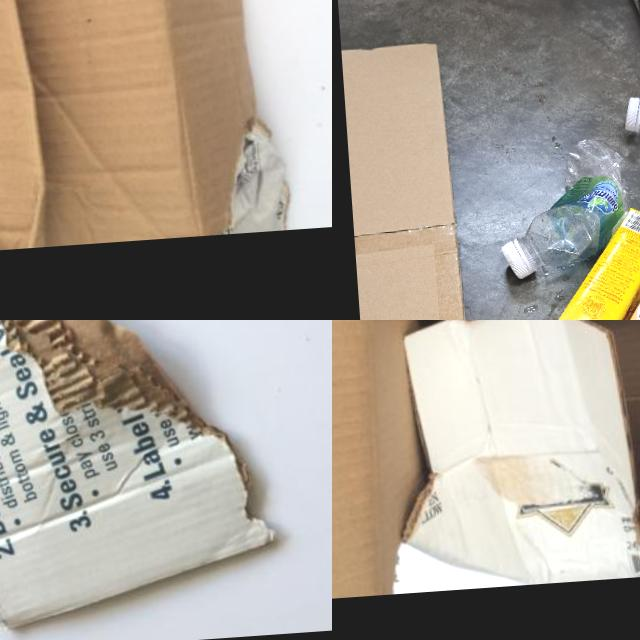caixinha: (540, 202, 640, 320)
garrafa plástica: (497, 138, 630, 278)
papelão: (0, 320, 283, 639), (332, 320, 640, 603), (0, 0, 291, 260), (340, 41, 484, 320)
tampa plástica: (504, 236, 538, 282), (622, 97, 640, 131)
